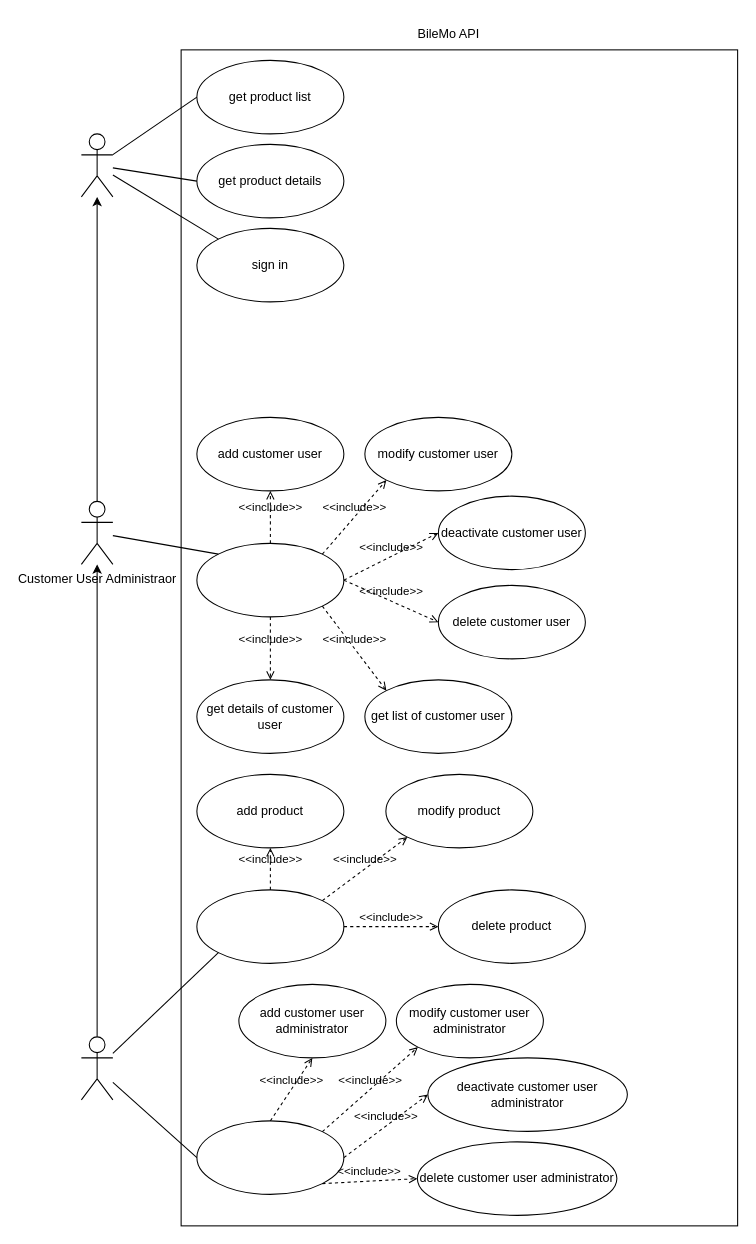
Image size: 756x1244. Some labels were removed from this diagram. The box of each missing label's shape, as (x1, y1, x2, y2) in pixels:
Administrator: (80, 1036, 113, 1100)
Customer User: (80, 133, 113, 197)
manage customer user: (196, 542, 344, 617)
manage customer user administrator: (196, 1120, 344, 1194)
manage products: (196, 889, 344, 963)
